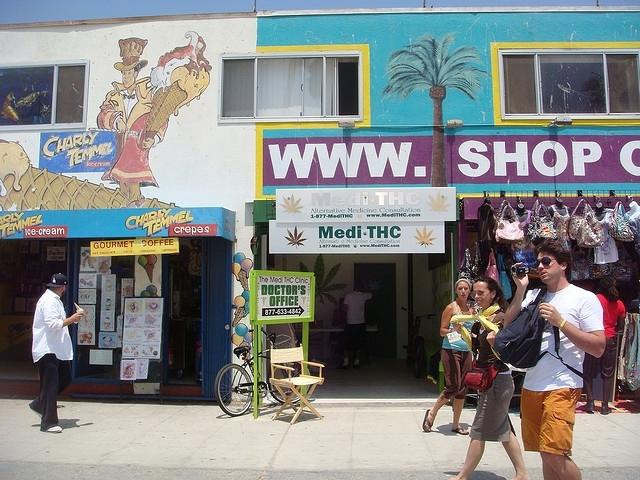non-vehicle: (213, 324, 312, 417), (400, 306, 437, 378)
